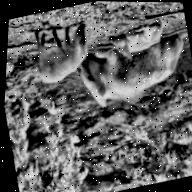boar: (71, 26, 192, 115), (27, 20, 98, 88), (105, 20, 170, 64)
